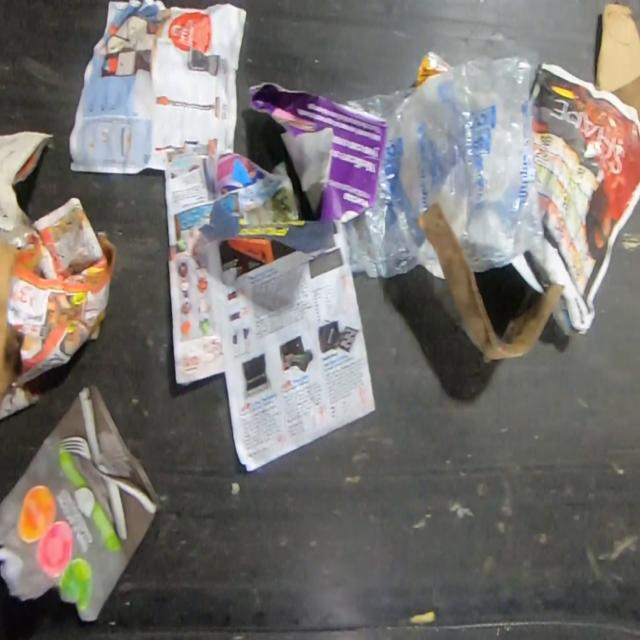cardboard: (415, 199, 565, 362), (594, 1, 640, 122), (0, 239, 22, 407)
soft_plastic: (342, 55, 546, 281)
